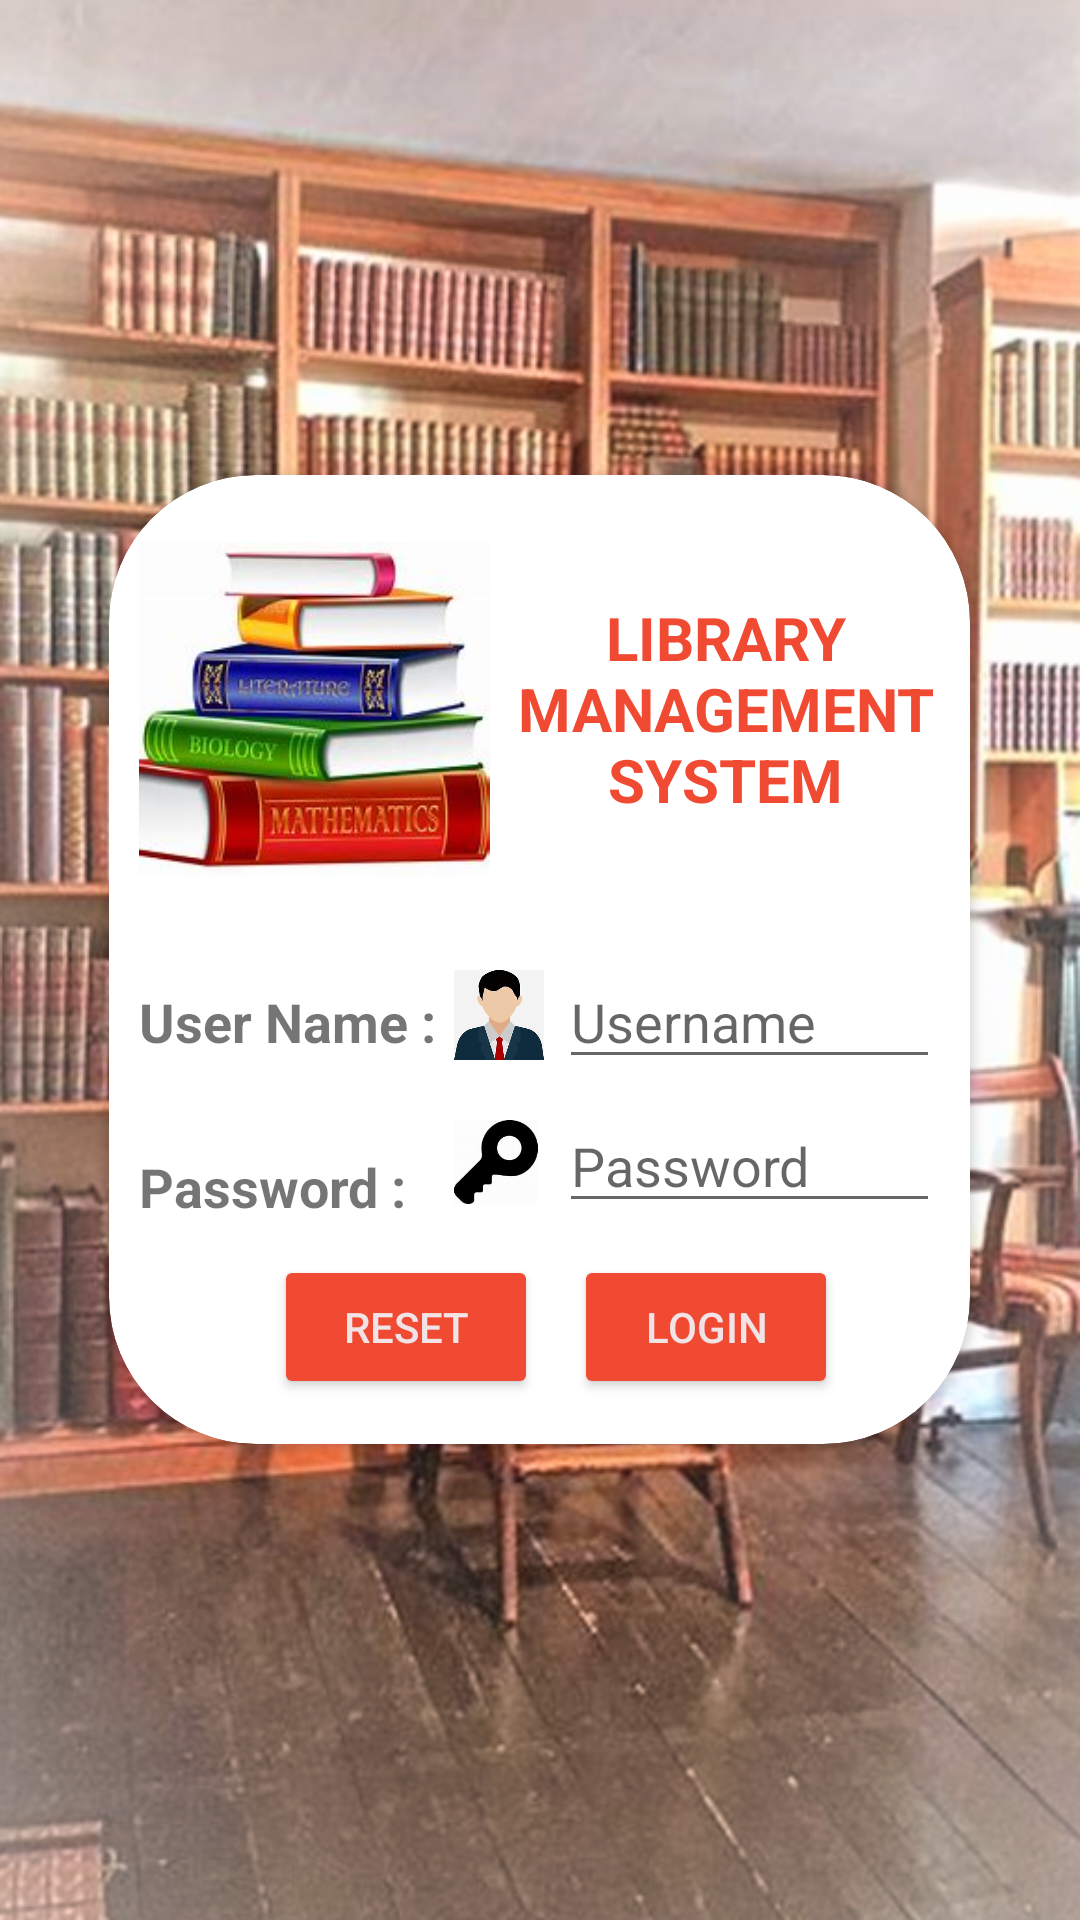

Icons on this 1080px×1920px Android screen, each with the point to tap as (x=x, y=y):
books: (x=314, y=710)
